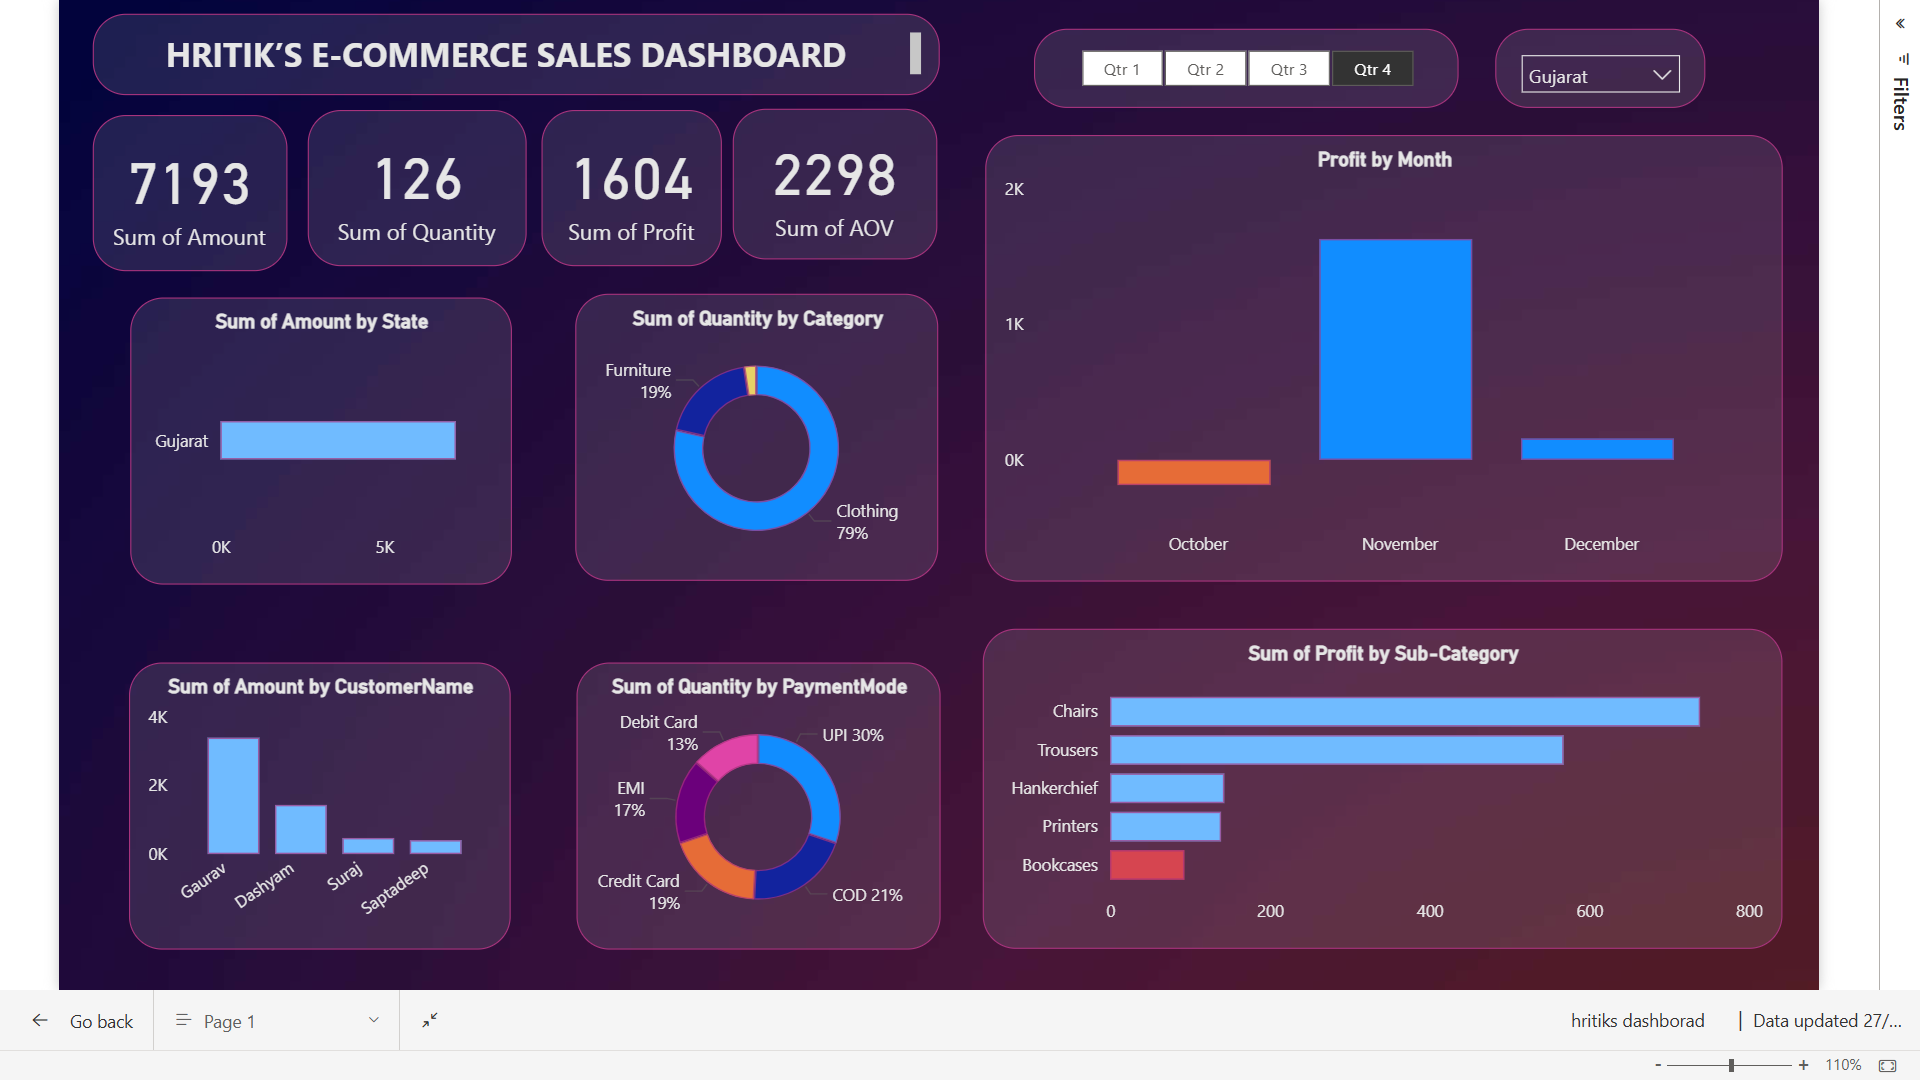

What the dashboard file says about the page in this screenshot:
{"tool":"powerbi","page":{"name":"Page 1","canvas":[1280,720],"ordinal":0},"visuals":[{"type":"textbox","box":[24.7,9.6,616.1,59],"z":0},{"type":"columnChart","title":" Profit by Month","fields":{"Y":["Details.Profit"],"Category":["Orders.Order Date.Variation.Date Hierarchy.Month"]},"box":[673.5,97.9,580.1,324.9],"z":1000},{"type":"barChart","fields":{"Category":["Details.Sub-Category"],"Y":["Details.Profit"]},"box":[672,457.2,581.5,232.8],"z":2000},{"type":"donutChart","fields":{"Category":["Details.Category"],"Y":["Details.Quantity"]},"box":[375.2,213.5,264.2,208.7],"z":3000},{"type":"donutChart","fields":{"Y":["Details.Quantity"],"Category":["Details.PaymentMode"]},"box":[376,481.6,264.8,208.6],"z":4000},{"type":"card","fields":{"Values":["Details.Amount"]},"box":[24.7,83.7,141.3,113.9],"z":5000},{"type":"card","fields":{"Values":["Details.AOV"]},"box":[490.2,79.1,148.6,109.7],"z":6000},{"type":"card","fields":{"Values":["Details.Profit"]},"box":[351.1,79.6,131.5,113.4],"z":7000},{"type":"card","fields":{"Values":["Details.Quantity"]},"box":[181,79.6,159.3,113.4],"z":8000},{"type":"barChart","fields":{"Y":["Details.Amount"],"Category":["Orders.State"]},"box":[51.9,216.6,277.4,209.2],"z":9000},{"type":"columnChart","fields":{"Category":["Orders.CustomerName"],"Y":["Details.Amount"]},"box":[50.7,481.4,277.5,208.7],"z":10000},{"type":"slicer","fields":{"Values":["Orders.Order Date.Variation.Date Hierarchy.Quarter"]},"box":[709.1,20.8,308.6,57.9],"z":11000},{"type":"slicer","fields":{"Values":["Orders.State"]},"box":[1044.4,20.8,152.8,57.9],"z":12000}]}

Visuals, with their boxes on the page's 1280x720 design canvas (x1, y1, x2, y2). These are canvas units, not pixel positions in the 1920x1080 screenshot, which may show the page scaled, cropped or inside an application window:
textbox: bbox=(25, 10, 641, 69)
" Profit by Month" columnChart: bbox=(674, 98, 1254, 423)
barChart - Details.Sub-Category x Details.Profit: bbox=(672, 457, 1254, 690)
donutChart - Details.Category x Details.Quantity: bbox=(375, 214, 639, 422)
donutChart - Details.Quantity x Details.PaymentMode: bbox=(376, 482, 641, 690)
card - Details.Amount: bbox=(25, 84, 166, 198)
card - Details.AOV: bbox=(490, 79, 639, 189)
card - Details.Profit: bbox=(351, 80, 483, 193)
card - Details.Quantity: bbox=(181, 80, 340, 193)
barChart - Details.Amount x Orders.State: bbox=(52, 217, 329, 426)
columnChart - Orders.CustomerName x Details.Amount: bbox=(51, 481, 328, 690)
slicer - Orders.Order Date.Variation.Date Hierarchy.Quarter: bbox=(709, 21, 1018, 79)
slicer - Orders.State: bbox=(1044, 21, 1197, 79)
